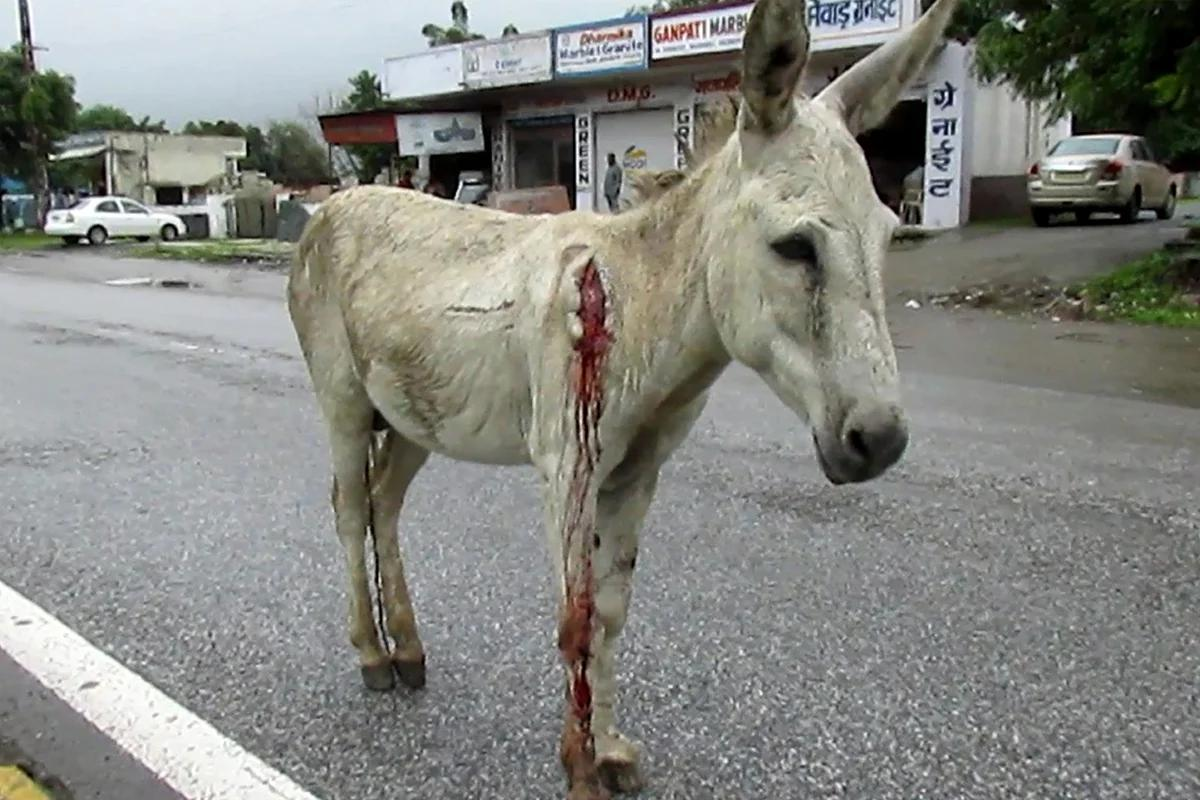cut: (520, 246, 707, 437)
